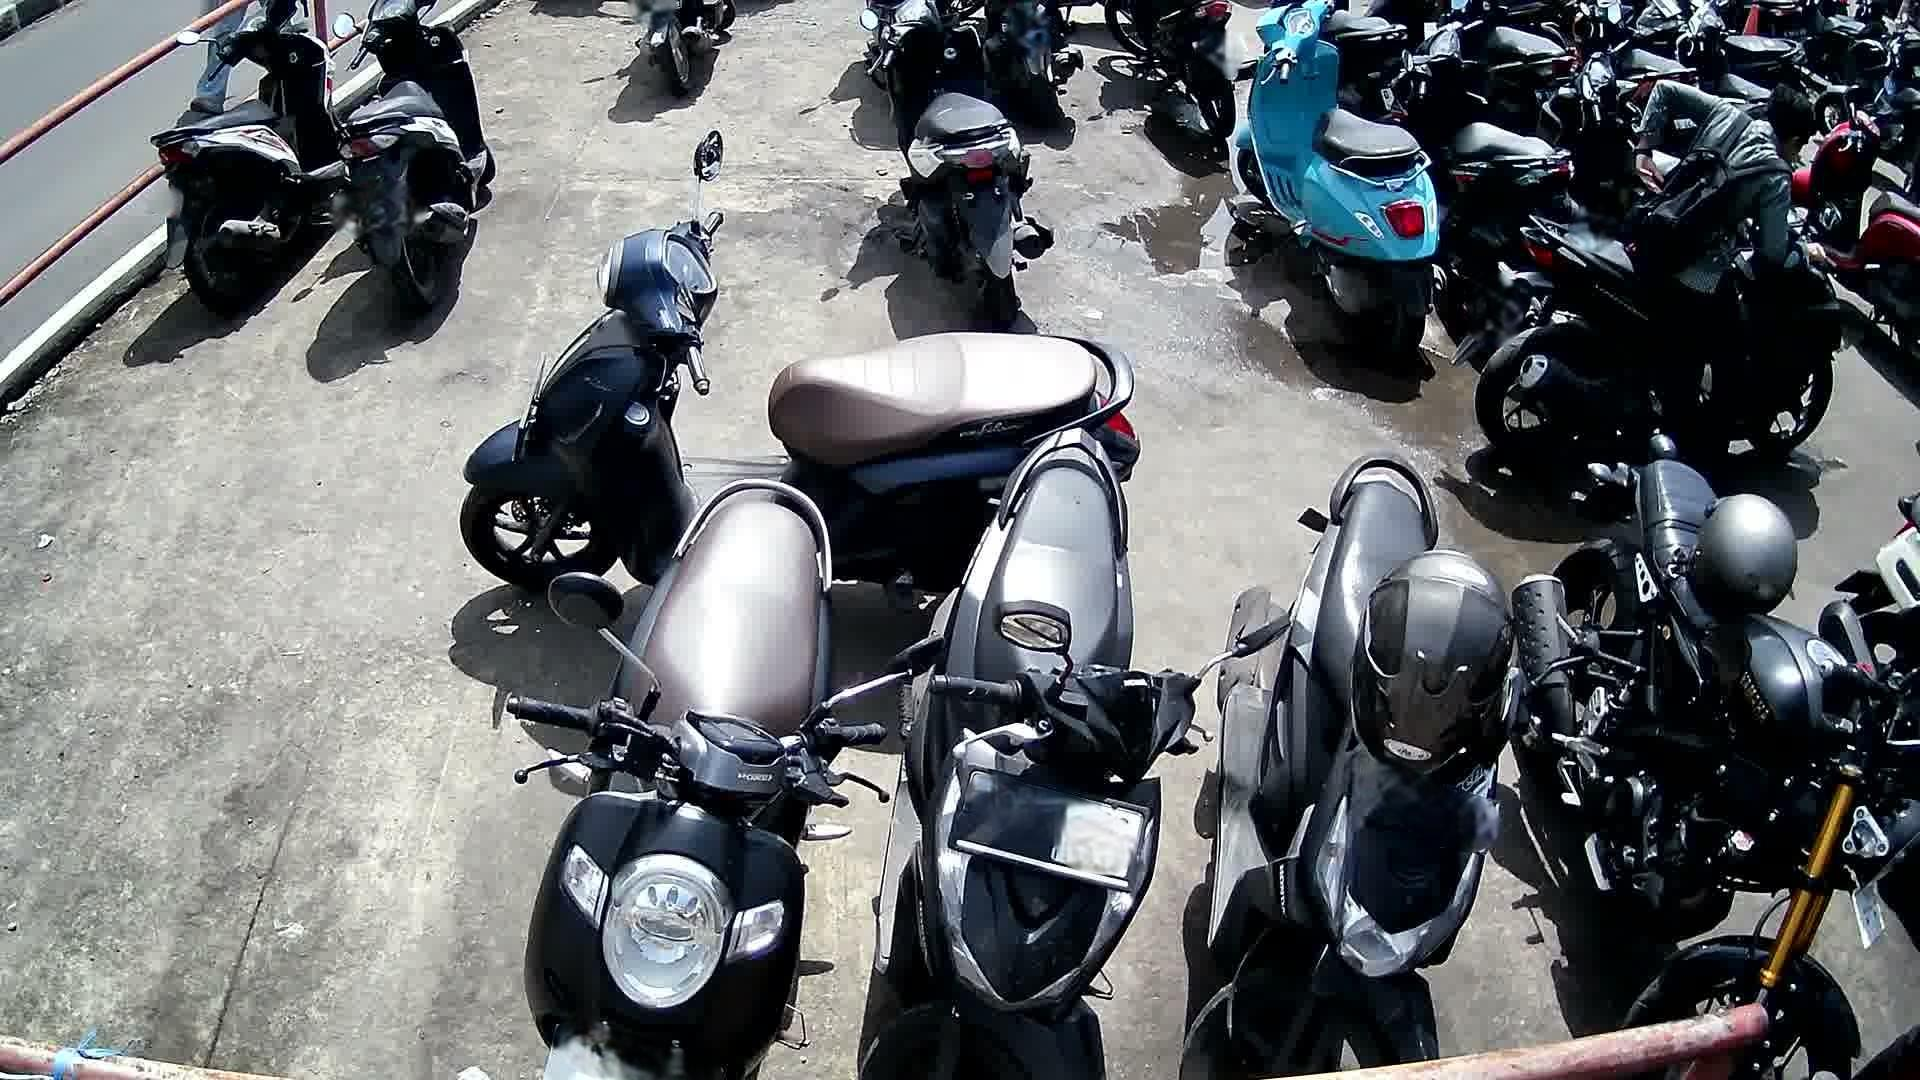motorcycle: (458, 131, 1138, 600), (856, 425, 1287, 1080), (1179, 448, 1602, 1080), (1511, 430, 1920, 1080), (502, 479, 943, 1080), (1476, 204, 1836, 467), (1233, 0, 1448, 356), (1377, 0, 1586, 324), (858, 0, 1055, 326), (149, 0, 352, 314), (328, 0, 497, 323), (1785, 76, 1920, 385)
